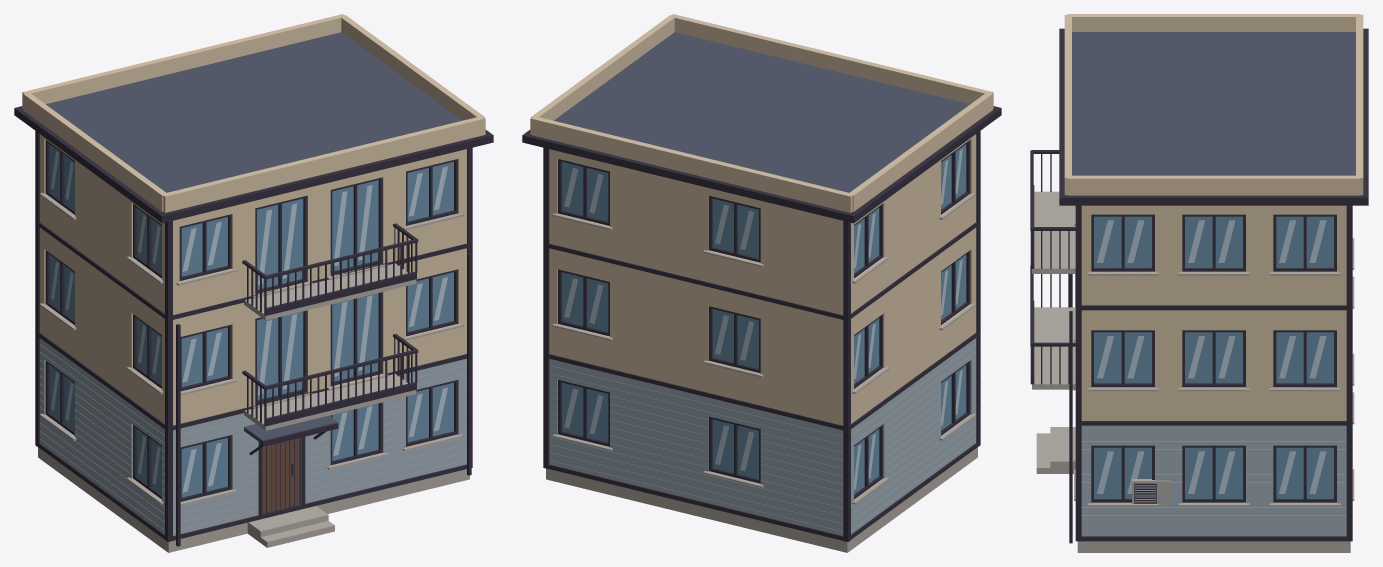
File: SM_House_UrbanFlat.fbx
The picture shows the model from 3 angles, left to right: view 1: azimuth 30°, elevation 25°; view 2: azimuth 150°, elevation 25°; view 3: azimuth 270°, elevation 25°; orthographic projection. The views are drawn at different scales.
Visible parts, largest first — view 1: SM_House_UrbanFlat; view 2: SM_House_UrbanFlat; view 3: SM_House_UrbanFlat.
Boxes of the visible parts, x1=… form: SM_House_UrbanFlat: x1=14, y1=14, x2=493, y2=552; SM_House_UrbanFlat: x1=522, y1=14, x2=1001, y2=552; SM_House_UrbanFlat: x1=1030, y1=14, x2=1368, y2=552.
Bounding box in the file's own units: 8.8 × 7.44 × 9.2.
